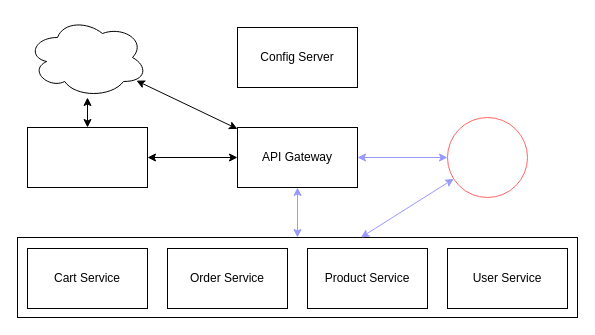
This 595x335 diagram has some shape labels left out. The centre of each missing label's shape, as x and y in pixels:
"Authentication Service" belongs at pixel 87 157.
"Client" belongs at pixel 87 57.
"Service Registry" belongs at pixel 487 157.
